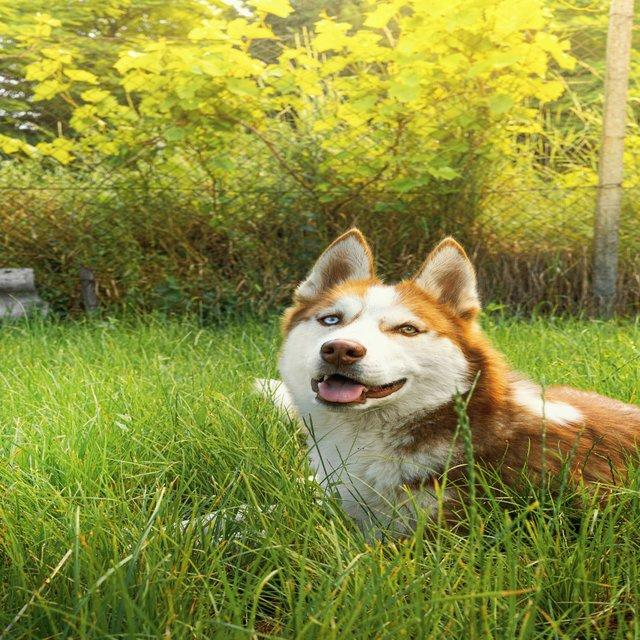husky: (136, 222, 640, 551)
